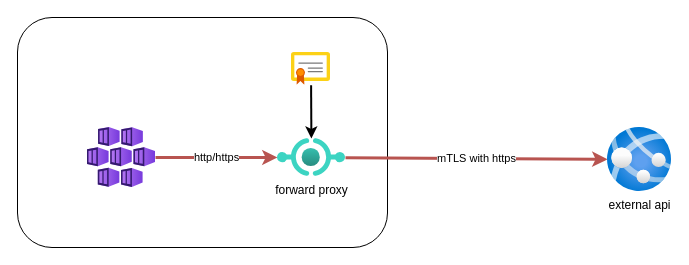
Image size: 689x265. Some labels were removed from this diagram. The shapes that lost their labels are listed below. From the top down, each one's centre as x and y in pixels, then its label:
At [310,68]: "mTls cert".
At [121,157]: "aks pods".
